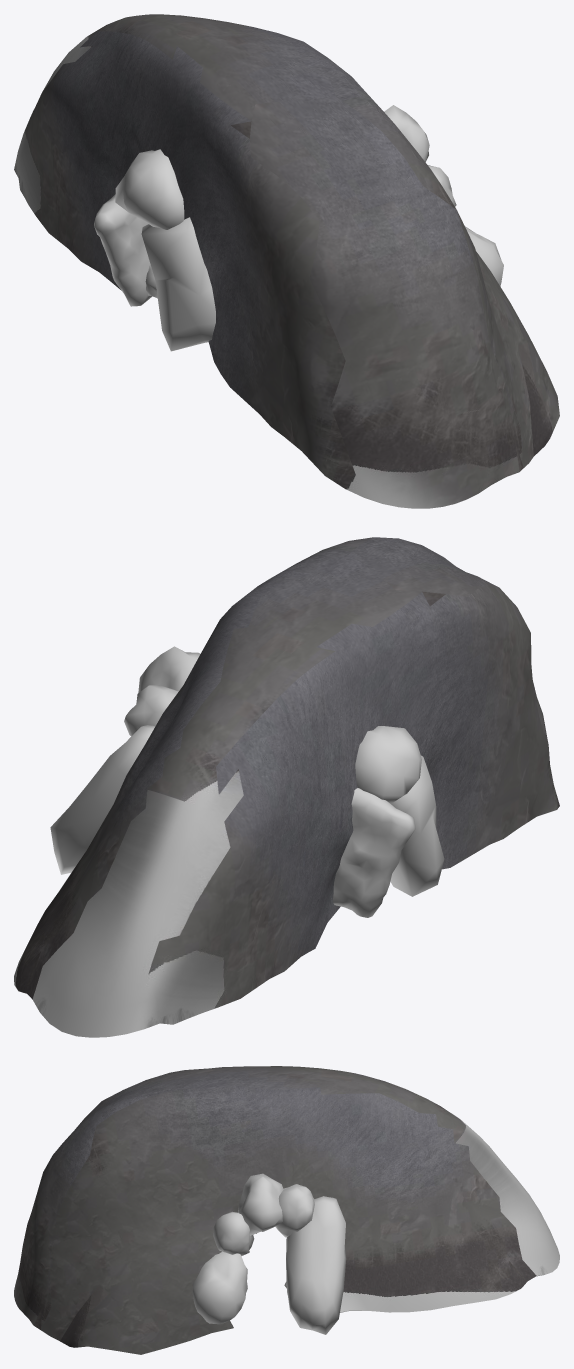
The model's file is Entrance Cave Expanded.fbx.
3 renders of one model, top to bottom at view 1: azimuth 30°, elevation 25°; view 2: azimuth 150°, elevation 25°; view 3: azimuth 270°, elevation 25°, orthographic. The views are drawn at different scales.
Visible parts, largest first — view 1: Entrance Cave, Entrance Exit, Entrance Entery; view 2: Entrance Cave, Entrance Exit, Entrance Entery; view 3: Entrance Cave, Entrance Entery.
Part boxes in pixels (bbox=[...]): Entrance Cave: bbox=[14, 14, 559, 508]; Entrance Exit: bbox=[94, 149, 215, 351]; Entrance Entery: bbox=[384, 105, 503, 286]; Entrance Cave: bbox=[14, 537, 559, 1037]; Entrance Exit: bbox=[332, 726, 444, 917]; Entrance Entery: bbox=[50, 646, 200, 874]; Entrance Cave: bbox=[14, 1066, 559, 1354]; Entrance Entery: bbox=[192, 1173, 346, 1334].
Size of the model in its own units: 1021 by 936 by 2072.
